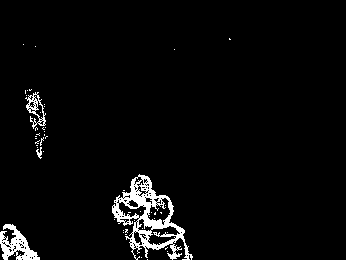person: (113, 172, 157, 260), (141, 194, 195, 260), (24, 87, 51, 164)
